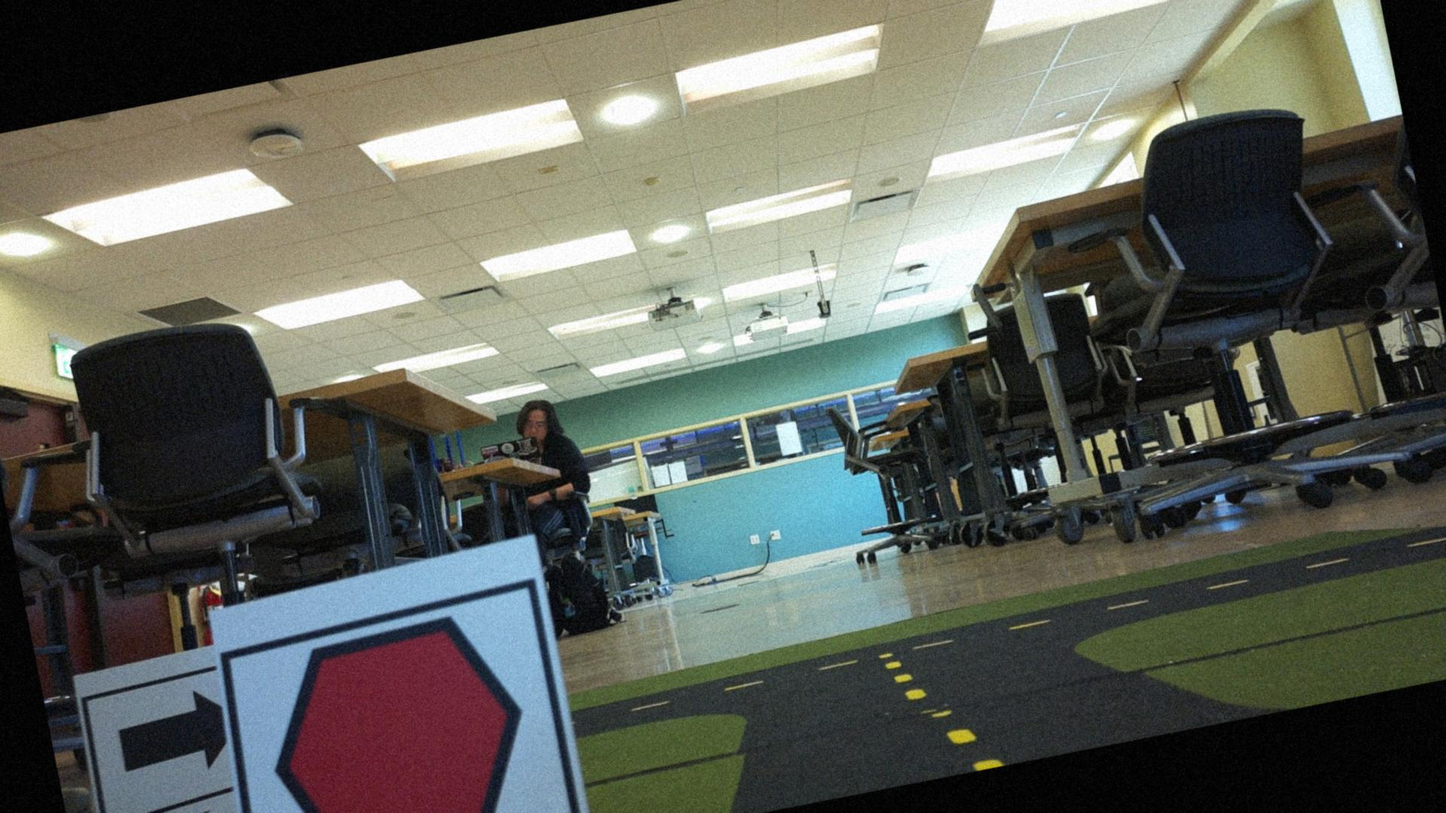stop: (236, 592, 564, 812)
yellowline: (936, 700, 999, 776), (885, 651, 933, 710)
